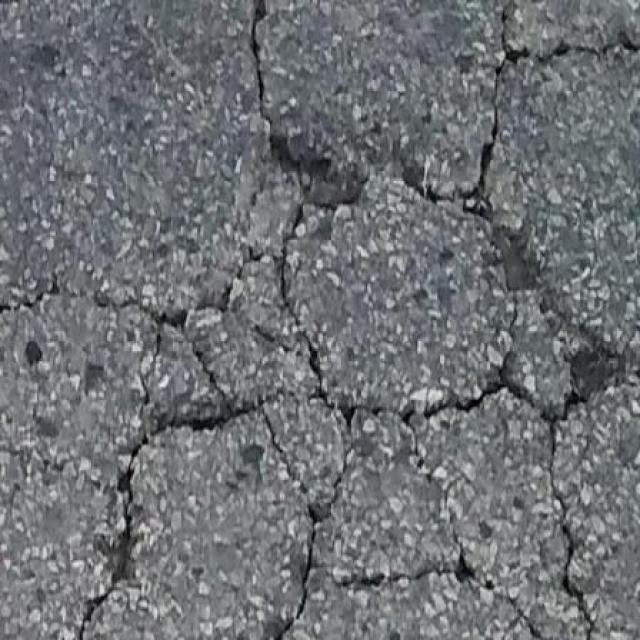Crack: (252, 4, 640, 539), (302, 451, 554, 640), (140, 382, 309, 498), (103, 296, 212, 408), (82, 455, 142, 634), (501, 2, 640, 77), (20, 449, 116, 508), (206, 249, 269, 312), (565, 550, 598, 639), (0, 281, 68, 317), (552, 474, 569, 542), (279, 620, 299, 639)
